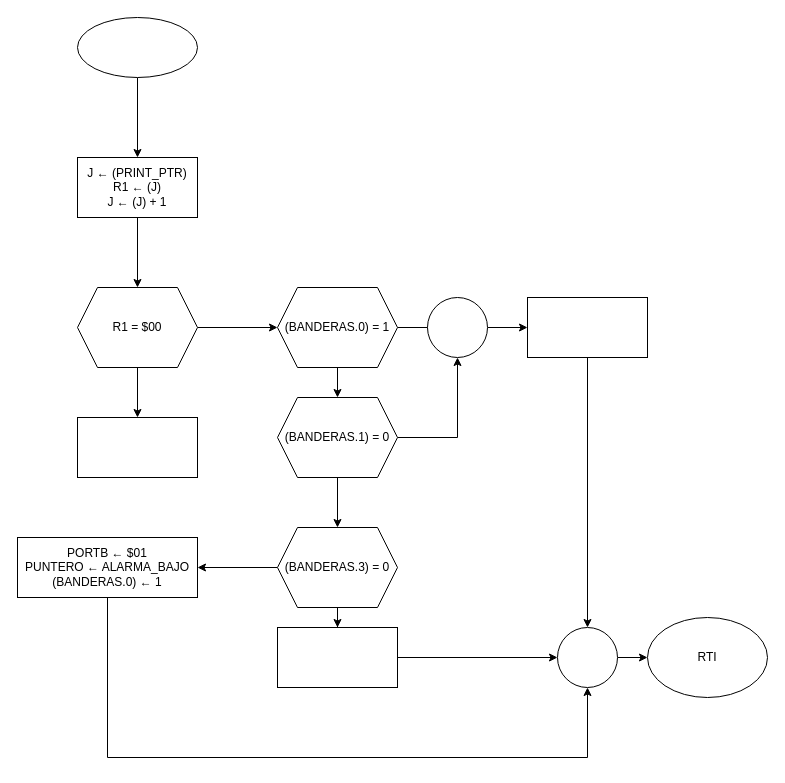
This 785x783 diagram has some shape labels left out. Each missing label, with the centre of its shape:
(BANDERAS.0) ← 0 (SCOCR2.6) ← 0: the point at 587,327
BANDERAS.0 ← 1 PUNTERO ← FULL: the point at 337,657
R2 ← (SC1SR1) SC1DRL ← (R1) PUNTERO ← (J) RTI: the point at 137,447
SCI_ISR: the point at 137,47
